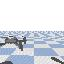drone: (0, 36, 27, 51)
